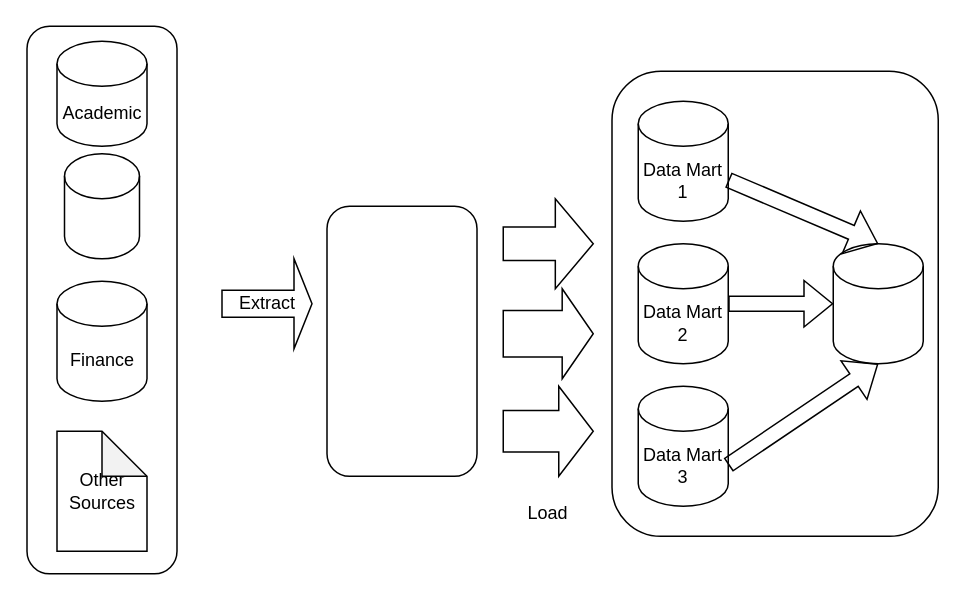
This 965x600 diagram has some shape labels left out. The box of each missing label's shape, as (x1, y1, x2, y2) in pixels:
Cleasing Srcubbing Deduplication: (326, 205, 477, 476)
Data Warehouse: (832, 242, 923, 364)
Library: (63, 152, 140, 259)
